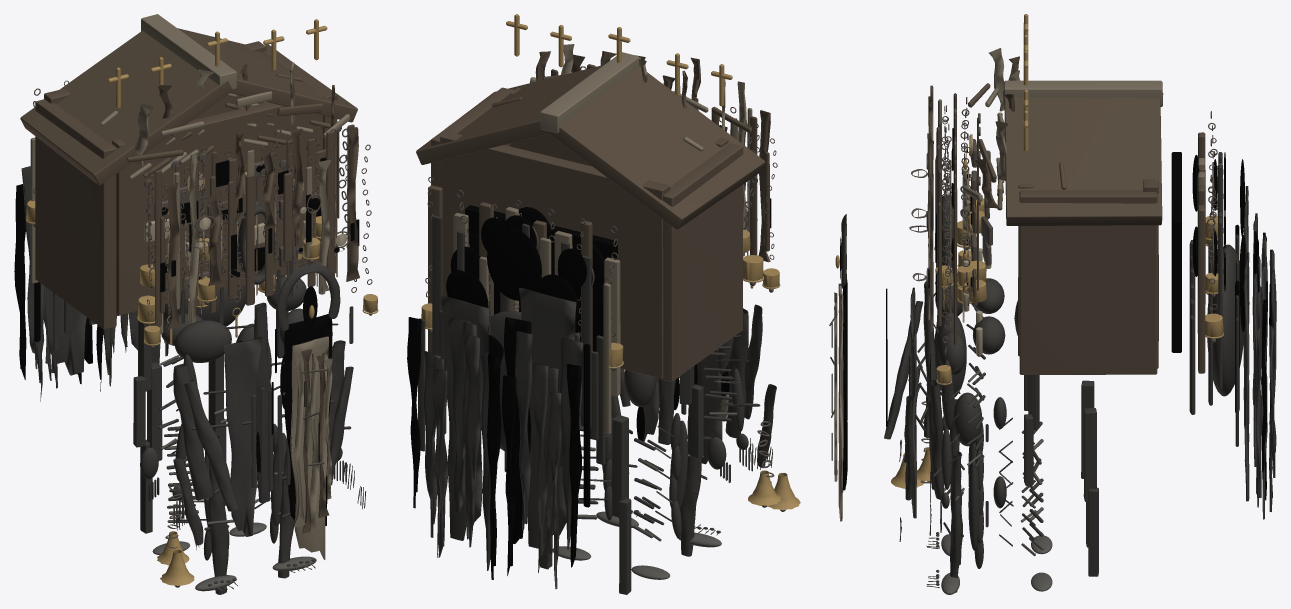
The model's file is penance_carrier_end_goal_v11_8_head_mask_reference_lock.glb.
3 renders of one model, left to right at view 1: azimuth 30°, elevation 25°; view 2: azimuth 150°, elevation 25°; view 3: azimuth 270°, elevation 25°, orthographic. The views are drawn at different scales.
Parts seen in each view (by area): view 1: PC_V4_shrine_front_rotten_wall, PC_V4_shrine_left_side_wall, PC_V4_roof_left_steep_slab, PC_V11_left_torn_front_cloak_sheet, PC_V4_roof_right_steep_slab, PC_V11_8_center_rotted_hanging_face_door, PC_V4_roof_ridge_heavy_rot, PC_V11_5_left_arm_pinched_wrapped_sculpt, PC_V11_8_dark_cloth_backing_tied_to_door_mask, PC_V11_7_left_arm_heavy_bowed_sleeve_end_goal, PC_V11_back_rotten_skin_sheet_left, PC_V11_crushed_left_shoulder_meat (+49 smaller); view 2: PC_V4_shrine_rear_rotten_wall, PC_V4_roof_left_steep_slab, PC_V4_shrine_left_side_wall, PC_V4_roof_right_steep_slab, PC_V11_back_rotten_skin_sheet_left, PC_V11_back_rotten_skin_sheet_right, PC_V11_back_deep_rotted_hole_01, PC_V4_roof_ridge_heavy_rot, PC_V11_6_back_thin_torn_rag_layer_02, PC_V4_back_black_rotten_hollow, PC_V11_7_back_rotten_interior_tongue_02, PC_V11_5_back_layered_rotten_sheet_04 (+53 smaller); view 3: PC_V4_shrine_right_side_wall, PC_V4_roof_right_steep_slab, PC_V4_roof_ridge_heavy_rot, PC_V11_back_swollen_rotten_under_mass, PC_V4_back_black_rotten_hollow, PC_V5_back_rotten_vertical_plank_07, PC_V11_back_rotten_skin_sheet_right, PC_V11_5_right_leg_compressed_wrapped_sculpt, PC_V11_5_right_arm_pinched_wrapped_sculpt, PC_V11_8_center_rotted_hanging_face_door, PC_V11_7_left_arm_heavy_bowed_sleeve_end_goal, PC_V11_low_hanging_abdomen_mass (+24 smaller).
Part boxes in pixels (left/top/right/bottom): PC_V4_shrine_front_rotten_wall: left=112, top=90, right=323, bottom=315; PC_V4_shrine_left_side_wall: left=35, top=99, right=116, bottom=329; PC_V4_roof_left_steep_slab: left=20, top=30, right=232, bottom=185; PC_V11_left_torn_front_cloak_sheet: left=224, top=337, right=262, bottom=536; PC_V4_roof_right_steep_slab: left=177, top=28, right=357, bottom=122; PC_V11_8_center_rotted_hanging_face_door: left=290, top=336, right=329, bottom=559; PC_V4_roof_ridge_heavy_rot: left=141, top=14, right=236, bottom=89; PC_V11_5_left_arm_pinched_wrapped_sculpt: left=173, top=363, right=213, bottom=500; PC_V11_8_dark_cloth_backing_tied_to_door_mask: left=284, top=314, right=332, bottom=525; PC_V11_7_left_arm_heavy_bowed_sleeve_end_goal: left=183, top=379, right=238, bottom=511; PC_V11_back_rotten_skin_sheet_left: left=44, top=286, right=86, bottom=375; PC_V11_crushed_left_shoulder_meat: left=174, top=320, right=231, bottom=362; PC_V4_shrine_rear_rotten_wall: left=440, top=131, right=669, bottom=378; PC_V4_roof_left_steep_slab: left=549, top=66, right=765, bottom=229; PC_V4_shrine_left_side_wall: left=660, top=143, right=743, bottom=381; PC_V4_roof_right_steep_slab: left=416, top=65, right=600, bottom=164; PC_V11_back_rotten_skin_sheet_left: left=519, top=287, right=576, bottom=548; PC_V11_back_rotten_skin_sheet_right: left=440, top=295, right=489, bottom=540; PC_V11_back_deep_rotted_hole_01: left=487, top=228, right=541, bottom=300; PC_V4_roof_ridge_heavy_rot: left=540, top=52, right=639, bottom=133; PC_V11_6_back_thin_torn_rag_layer_02: left=515, top=330, right=532, bottom=529; PC_V4_back_black_rotten_hollow: left=465, top=205, right=617, bottom=351; PC_V11_7_back_rotten_interior_tongue_02: left=464, top=334, right=480, bottom=547; PC_V11_5_back_layered_rotten_sheet_04: left=448, top=317, right=471, bottom=512; PC_V4_shrine_right_side_wall: left=1019, top=190, right=1157, bottom=374; PC_V4_roof_right_steep_slab: left=1004, top=97, right=1162, bottom=225; PC_V4_roof_ridge_heavy_rot: left=1004, top=80, right=1162, bottom=105; PC_V11_back_swollen_rotten_under_mass: left=1207, top=244, right=1244, bottom=396; PC_V4_back_black_rotten_hollow: left=1171, top=152, right=1181, bottom=352; PC_V5_back_rotten_vertical_plank_07: left=1198, top=205, right=1205, bottom=373; PC_V11_back_rotten_skin_sheet_right: left=1244, top=252, right=1249, bottom=501; PC_V11_5_right_leg_compressed_wrapped_sculpt: left=950, top=451, right=961, bottom=592; PC_V11_5_right_arm_pinched_wrapped_sculpt: left=929, top=380, right=943, bottom=499; PC_V11_8_center_rotted_hanging_face_door: left=838, top=283, right=843, bottom=521; PC_V11_7_left_arm_heavy_bowed_sleeve_end_goal: left=884, top=301, right=923, bottom=439; PC_V11_low_hanging_abdomen_mass: left=953, top=392, right=981, bottom=446.
Size of the model in its own units: 2.34 by 4.48 by 3.44.
